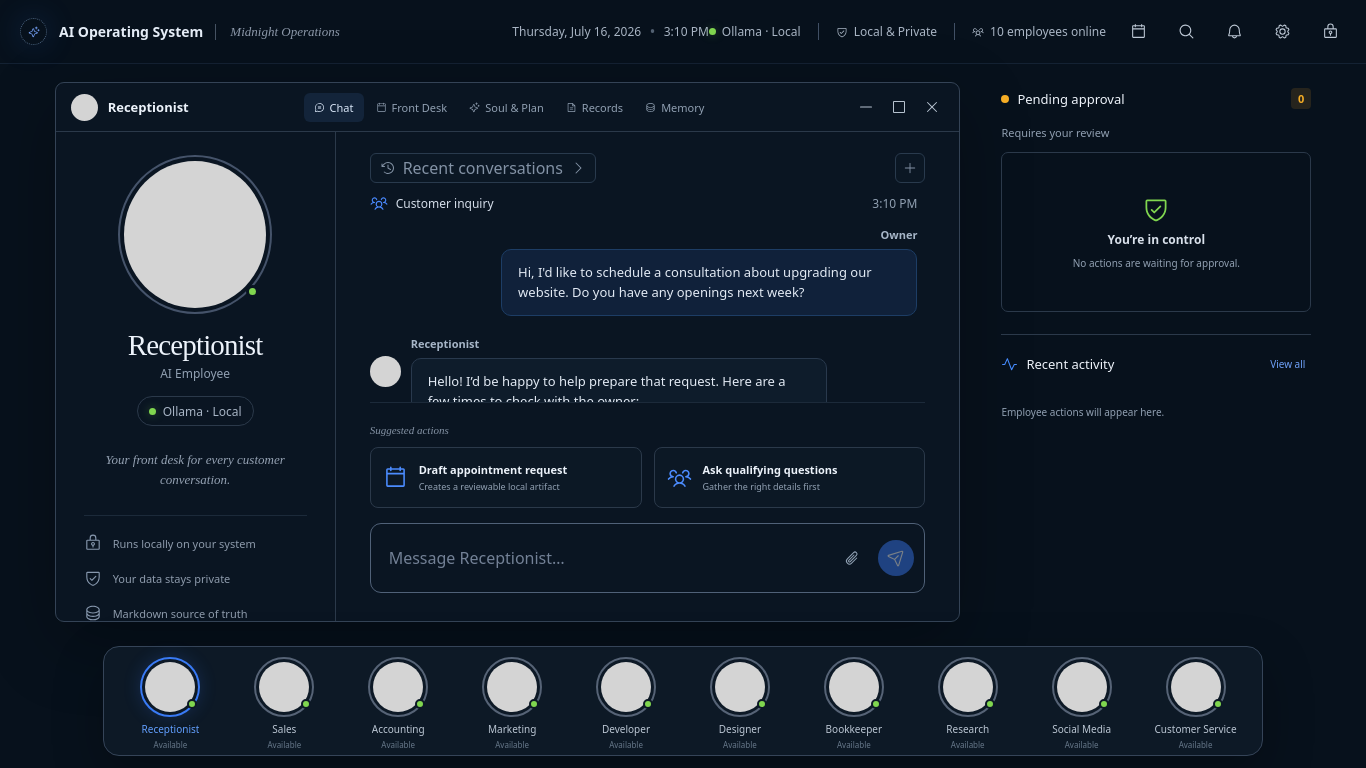
Test case: Campaign employee workspaces › shows Marketing campaigns, Social content calendar, and their shared Campaign Files
Click the button with aria-label "Marketing, available" at (512, 707), box [458,655,567,759]
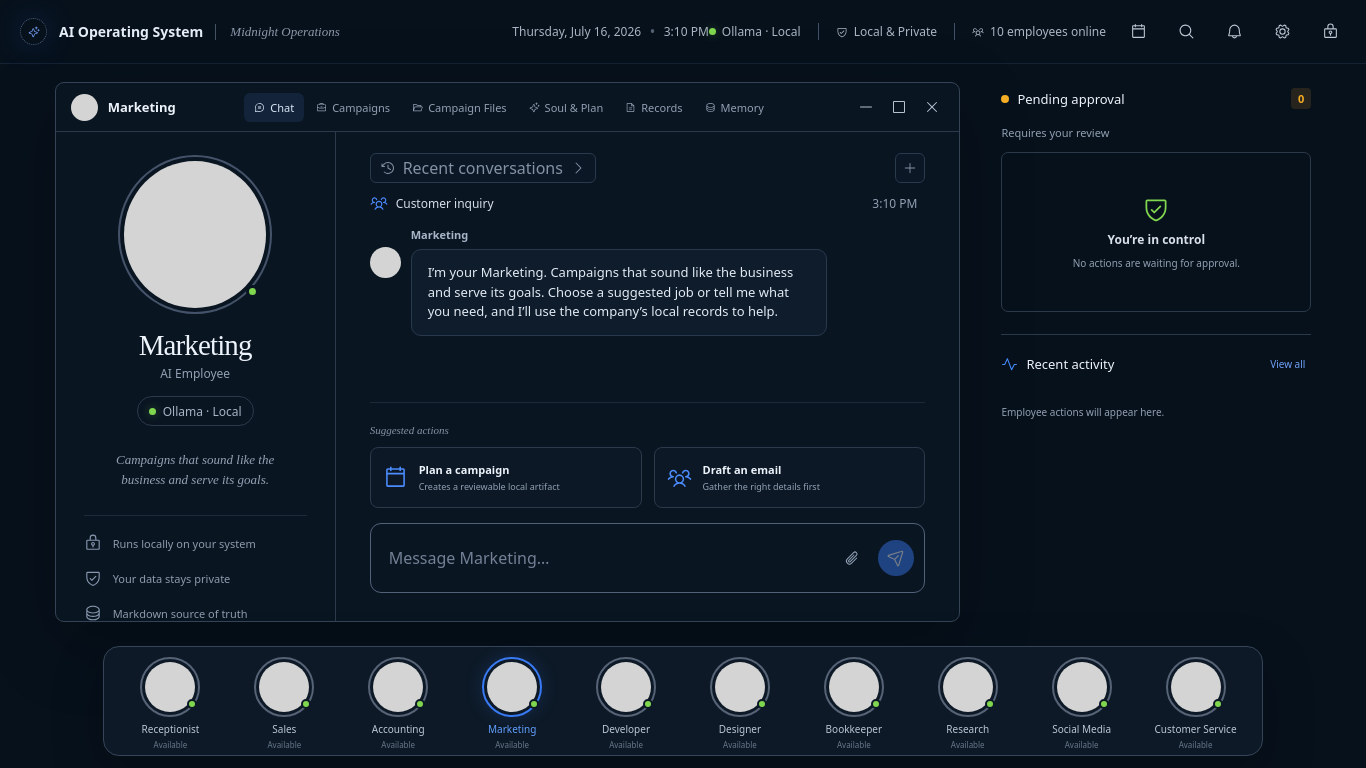
Click the button "Campaigns" at (353, 107), box [306,92,400,122]
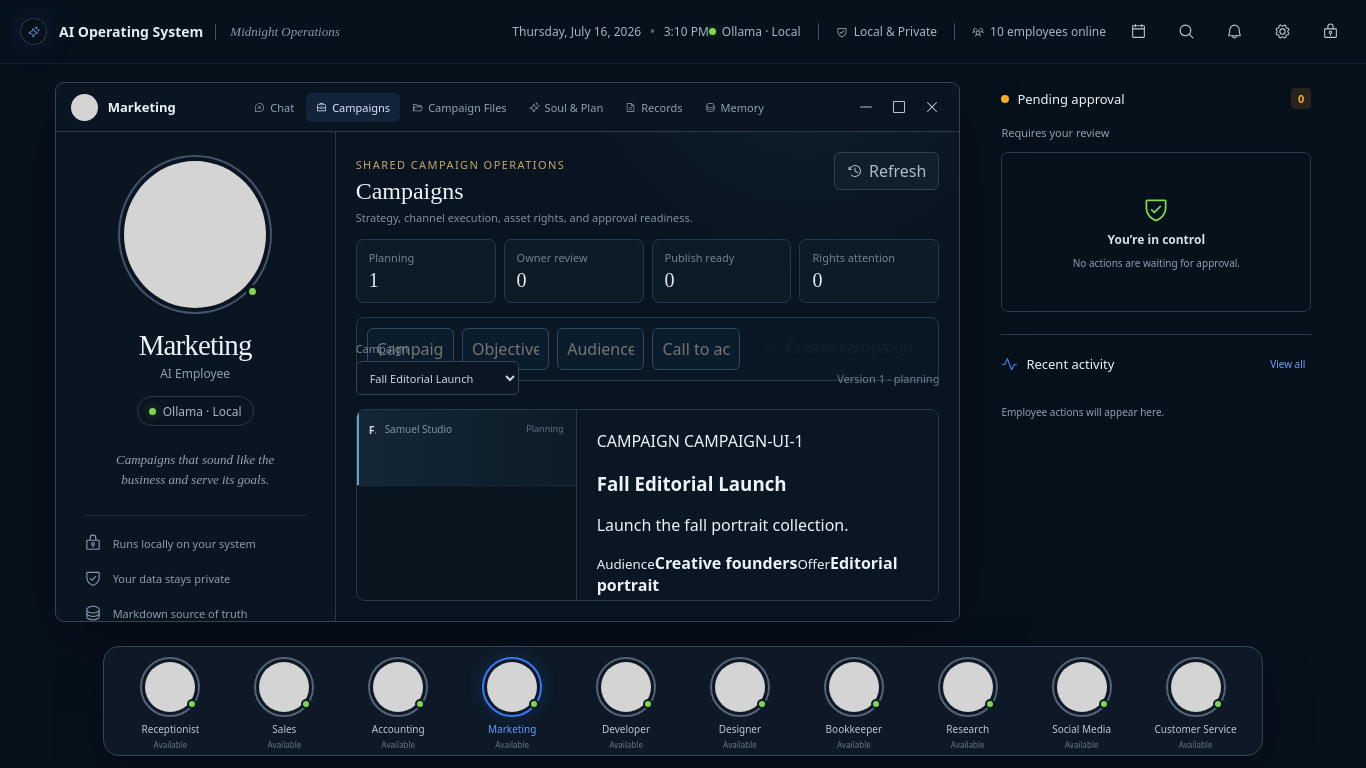
Expected: the element named "Marketing campaigns" is shown, [336,132,959,621]
Click the button "Campaign Files" at (459, 107), box [402,92,517,122]
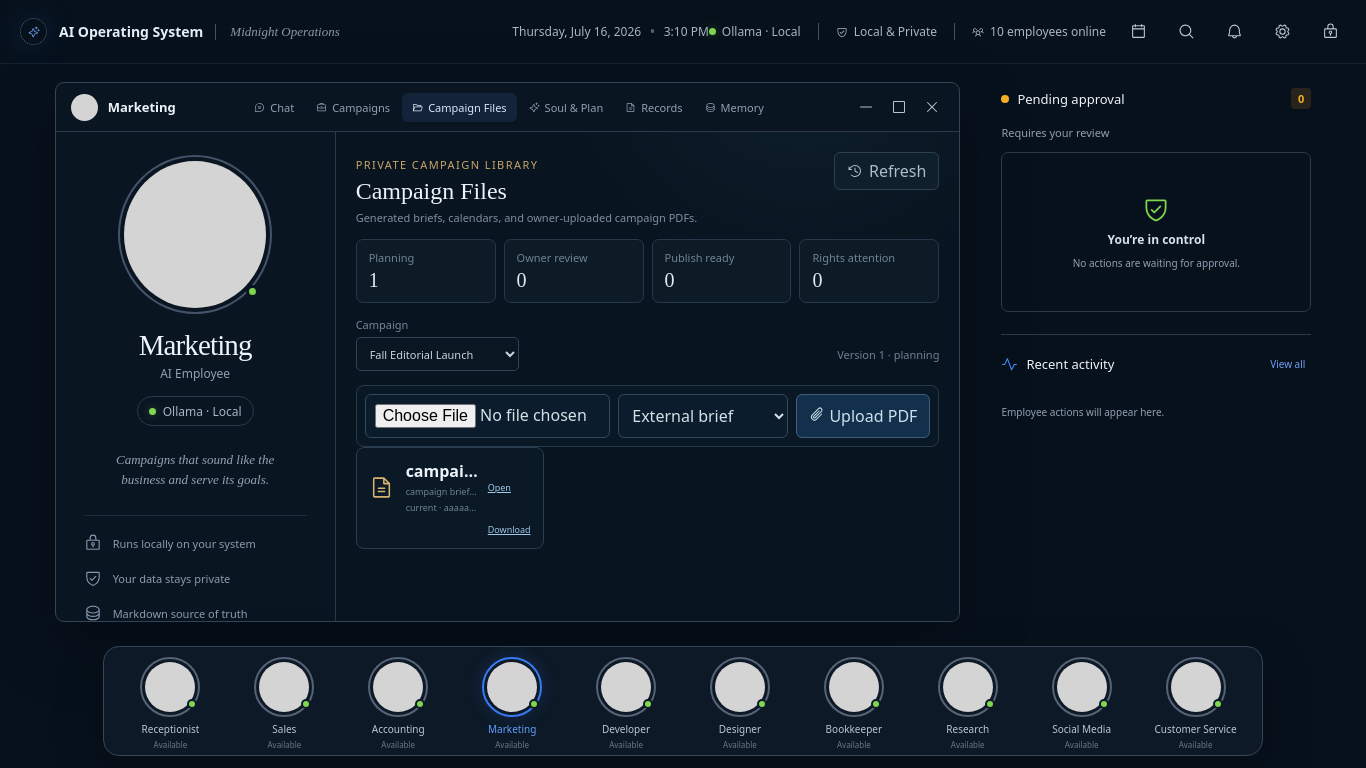
Expected: the element "Campaign Files" is shown, [336,132,959,621]
Expected: the text "campaign-fall-v1-brief.pdf" is shown, [406,460,479,482]
Click the button with aria-label "Social Media, available" at (1082, 707), box [1027,655,1136,759]
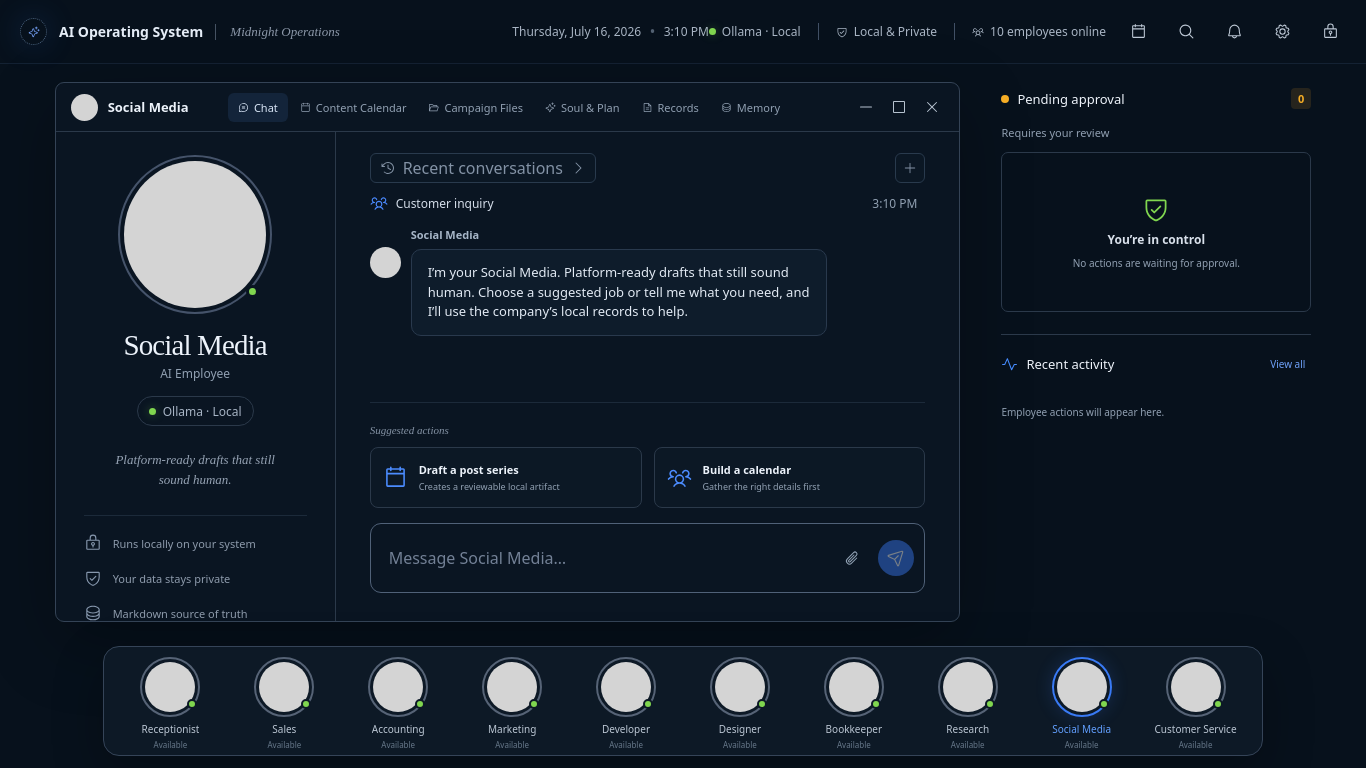
Click the button "Content Calendar" at (353, 107), box [290,92,416,122]
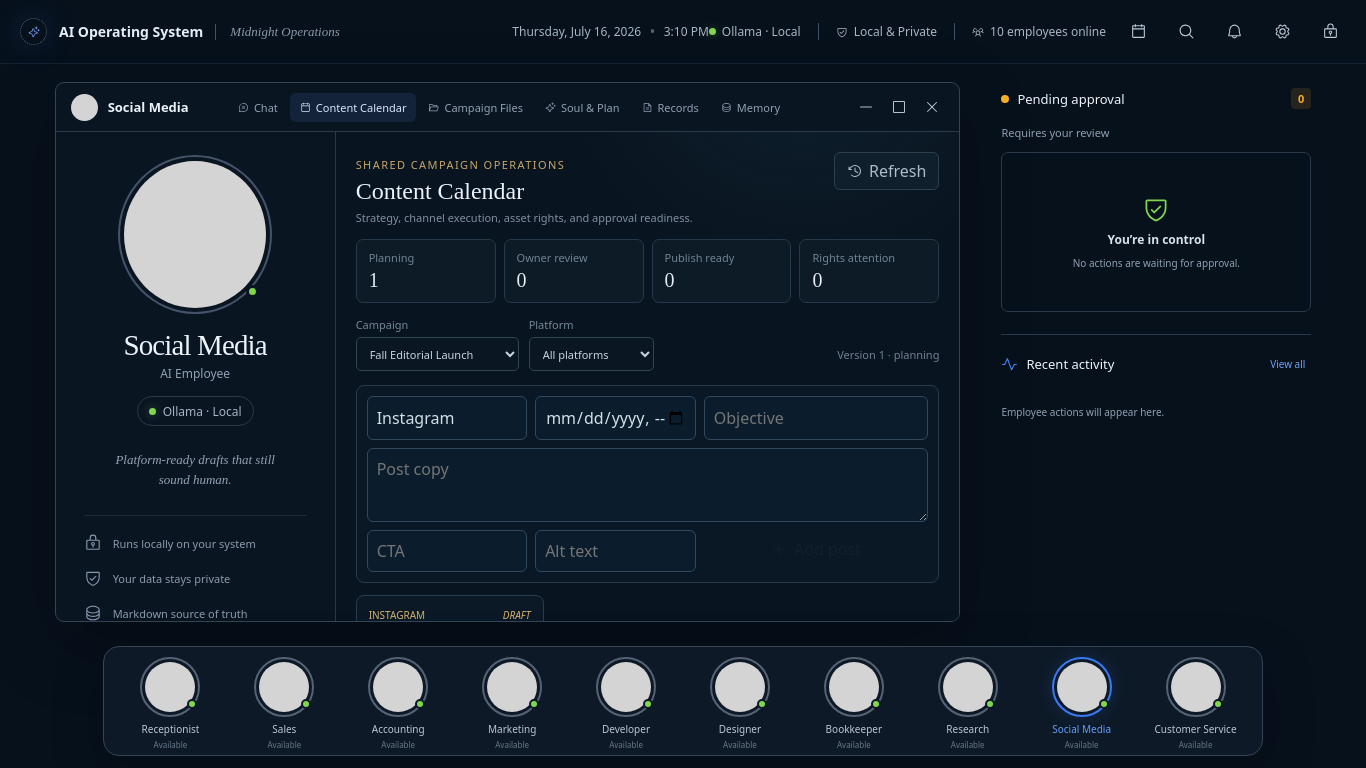
Expected: the element named "Social Media content calendar" is shown, [336,132,959,621]
